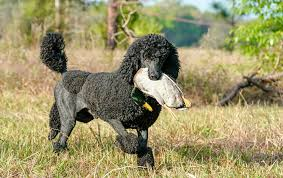Bulldog: (27, 21, 202, 165)
